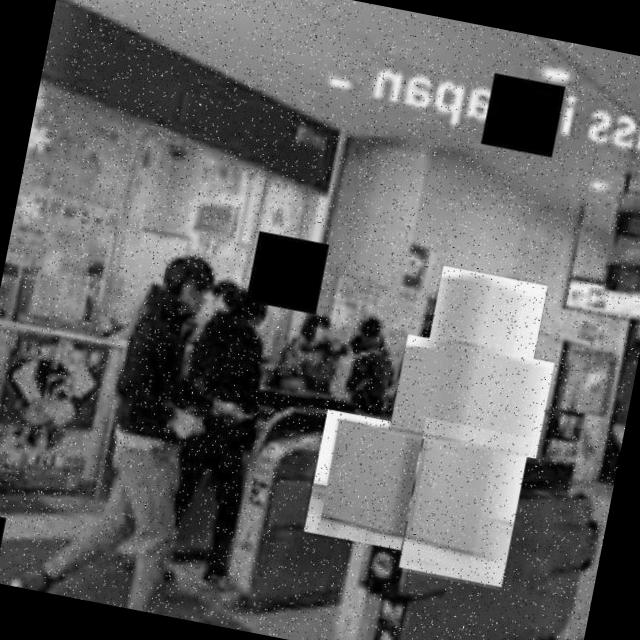box: (396, 418, 531, 592), (387, 334, 556, 463), (300, 408, 426, 553), (424, 264, 548, 374)
